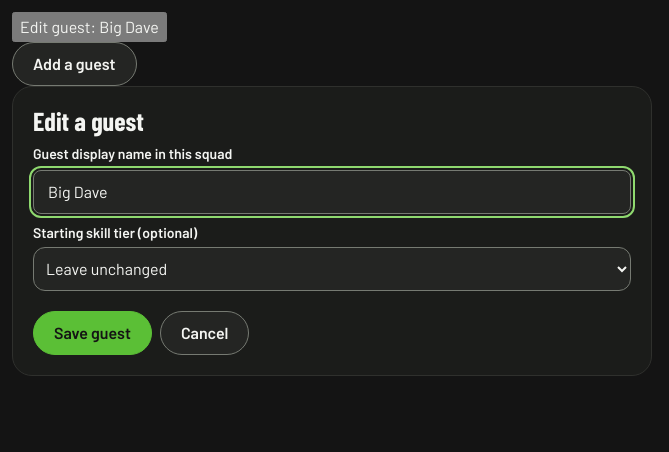
Test: GuestForm edit mode — the prefill, the defaults, and the command (Requirements 12.7–12.10) › keeps the edit form open with its value after a rejected display name
Replace the text in the field labelled "Guest display name in this squad" with "Registered Ruth" at coordinates (332, 192), box [33, 170, 631, 214]
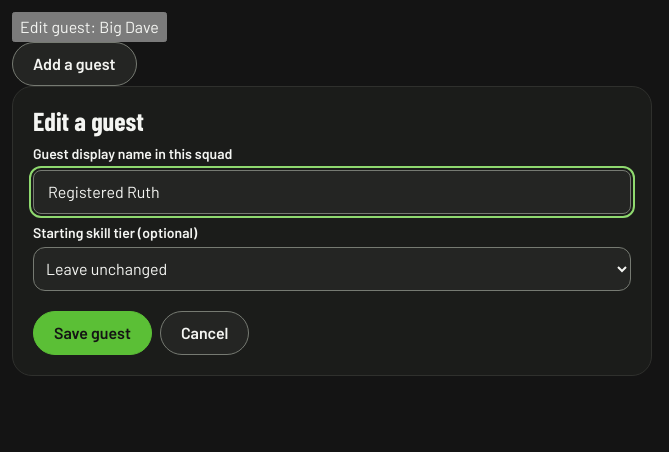
Click the button "Save guest".
click(92, 333)  # box [33, 311, 152, 355]
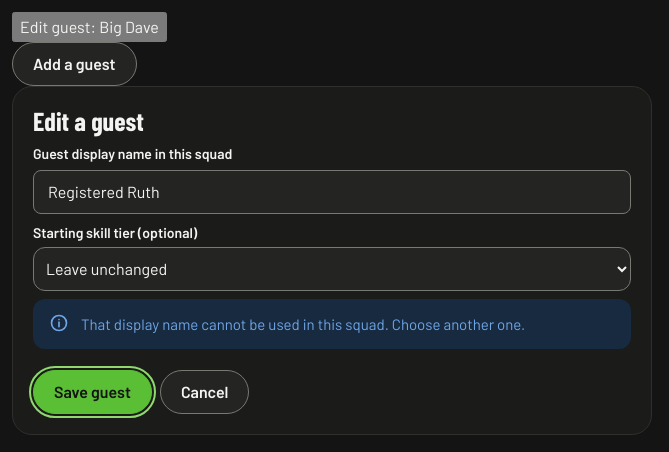
Expected: the text "That display name cannot be used in this squad. Choose another one." is shown, [81, 315, 525, 333]
